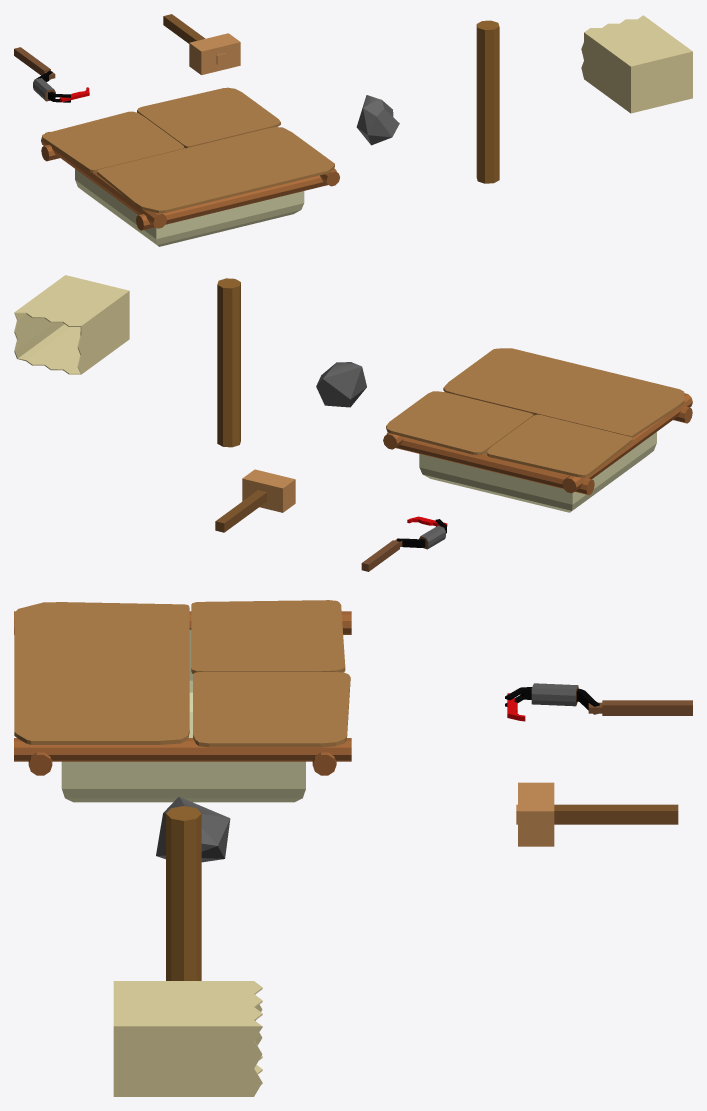
The model's file is RaftClone.fbx.
3 renders of one model, top to bottom at view 1: azimuth 30°, elevation 25°; view 2: azimuth 150°, elevation 25°; view 3: azimuth 270°, elevation 25°, orthographic. The views are drawn at different scales.
Visible parts, largest first — view 1: Foundation, Plastic, Log, Hammer, Rock, Hook; view 2: Foundation, Plastic, Log, Hammer, Rock, Hook; view 3: Foundation, Plastic, Log, Hammer, Hook, Rock.
Part boxes in pixels (x1,y1,x2,y2): Foundation: (41,87,339,246); Plastic: (581,15,692,113); Log: (476,20,499,183); Hammer: (163,14,240,75); Rock: (356,95,399,145); Hook: (14,47,89,102); Foundation: (383,348,692,512); Plastic: (14,275,129,374); Log: (217,278,240,447); Hammer: (215,469,295,532); Rock: (316,362,366,407); Hook: (361,516,447,571); Foundation: (14,600,351,802); Plastic: (113,981,262,1096); Log: (166,806,201,980); Hammer: (516,782,678,846); Hook: (505,683,692,721); Rock: (156,797,230,862).
Bounding box in the file's own units: 1181 × 300 × 801.
